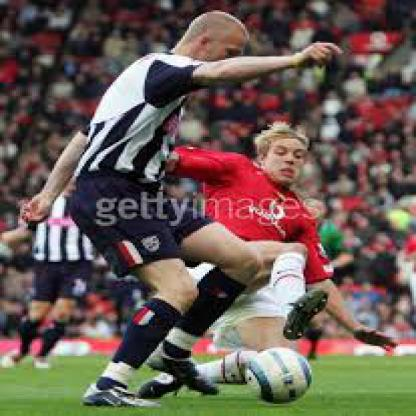Fall_Down: (133, 131, 404, 403)
